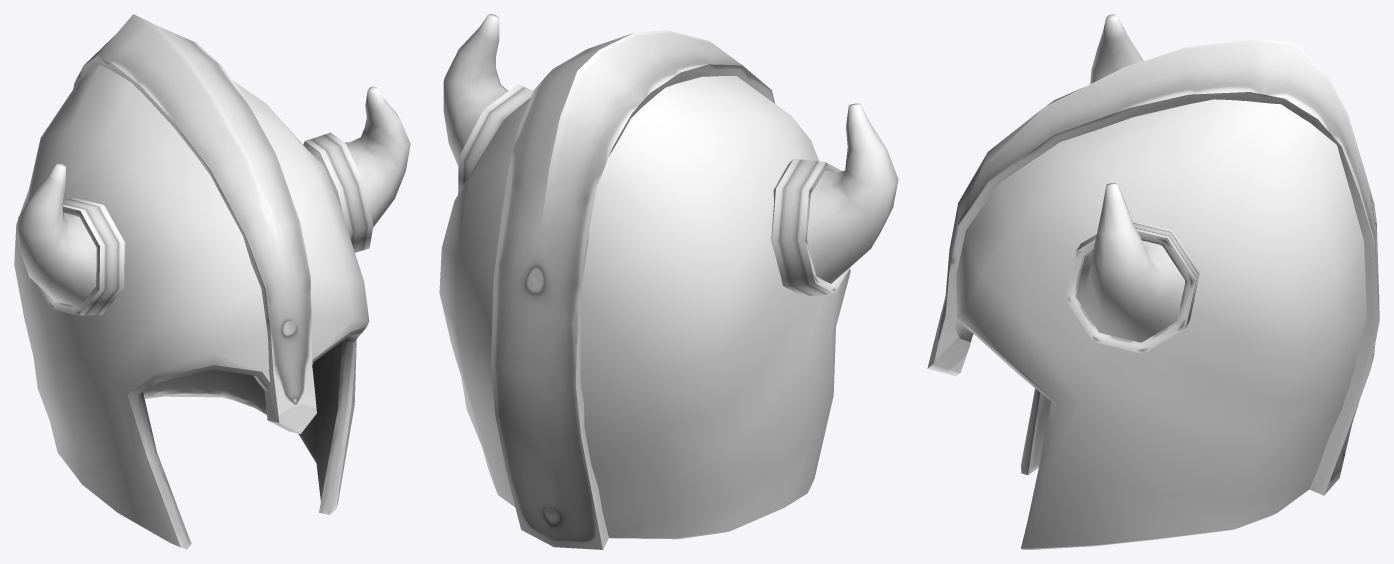
File: 046_a_helmet_lp.fbx
The picture shows the model from 3 angles, left to right: view 1: azimuth 30°, elevation 25°; view 2: azimuth 150°, elevation 25°; view 3: azimuth 270°, elevation 25°; orthographic projection. The views are drawn at different scales.
Parts seen in each view (by area): view 1: 046_a_helmet_lp; view 2: 046_a_helmet_lp; view 3: 046_a_helmet_lp.
Boxes of the visible parts, x1,y1,x2,y2 form: 046_a_helmet_lp: (14,14,410,549); 046_a_helmet_lp: (439,14,898,549); 046_a_helmet_lp: (927,14,1379,549).
Bounding box in the file's own units: 34.57 × 36.82 × 31.91.
